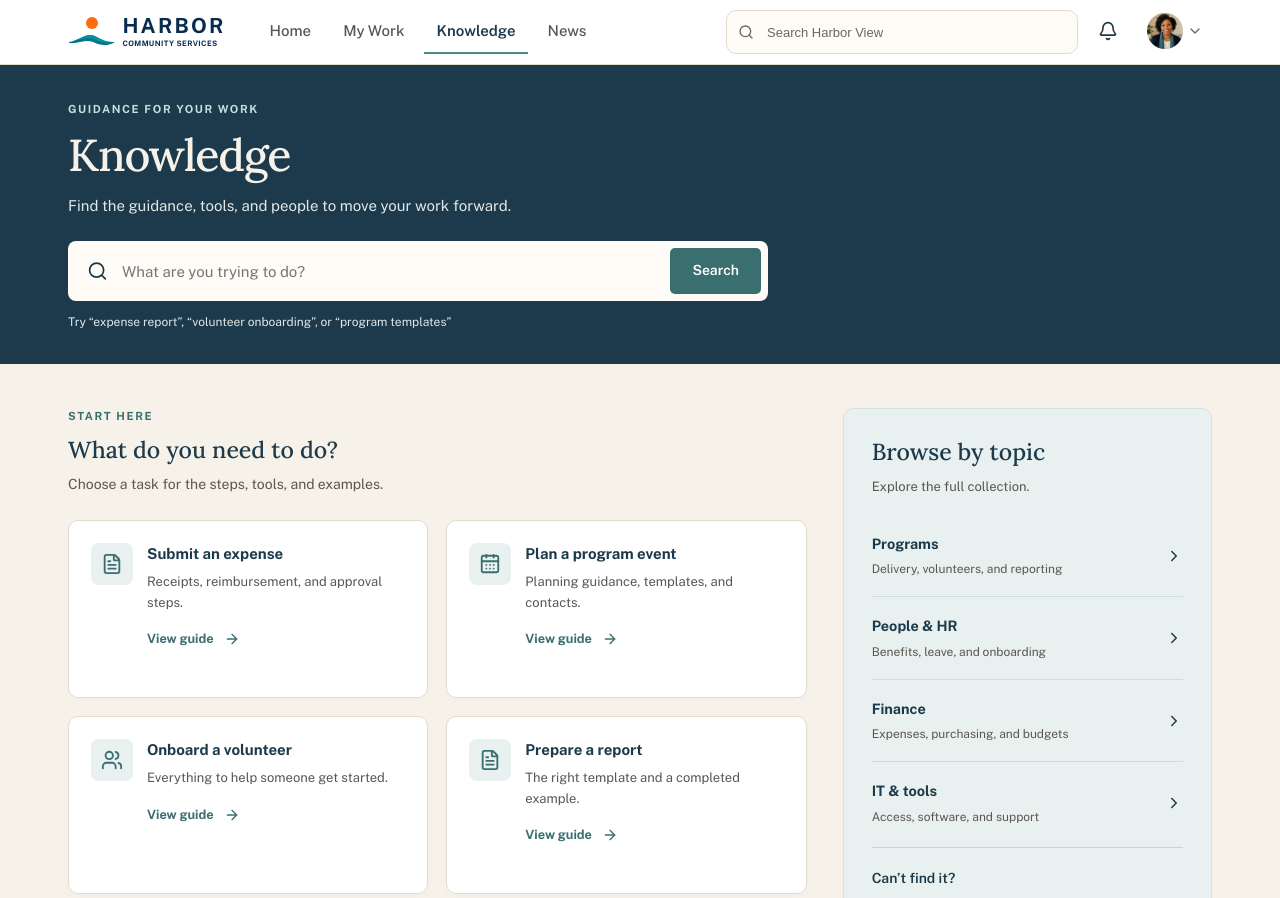
Test: Knowledge journeys › filters by topic and clears back to the task landing
Click the link "Finance Expenses, purchasing, and budgets" at (899,708), box [872,700,1183,741]
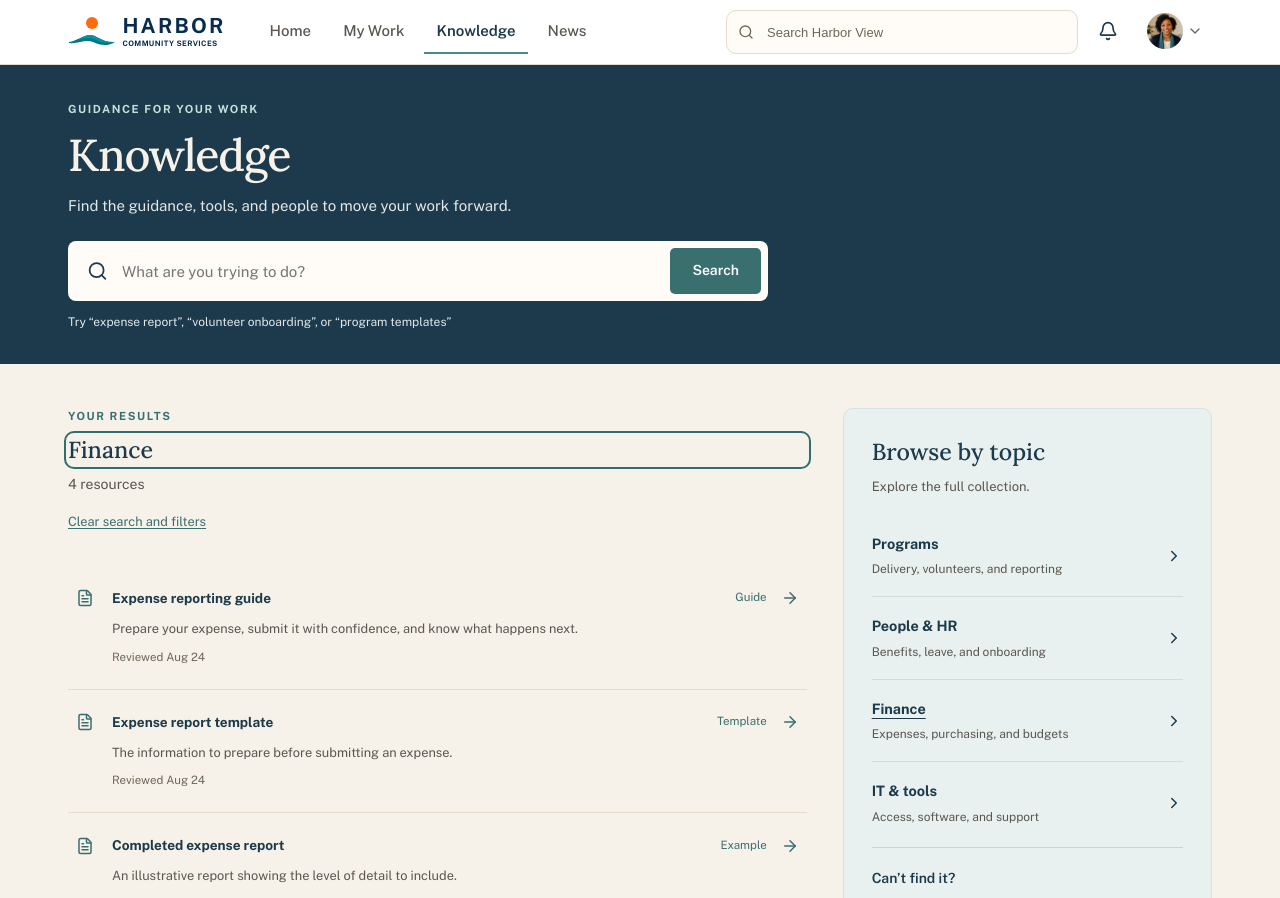
Expected: the text "4 resources" is shown, [68,476,144,492]
Click the link "Clear search and filters" at (137,521), box [68,514,206,529]
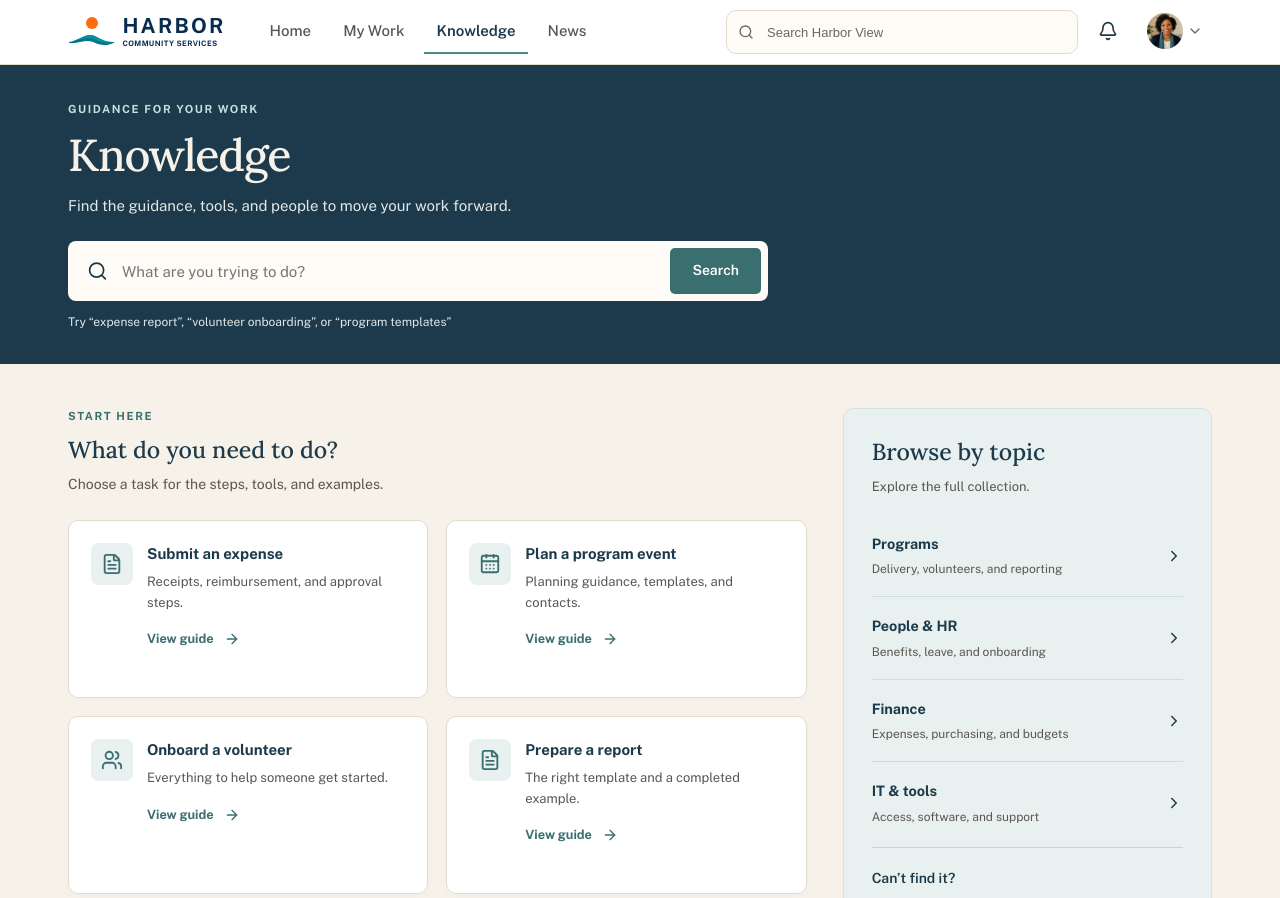
Expected: the heading "What do you need to do?" is shown, [68,435,338,464]
